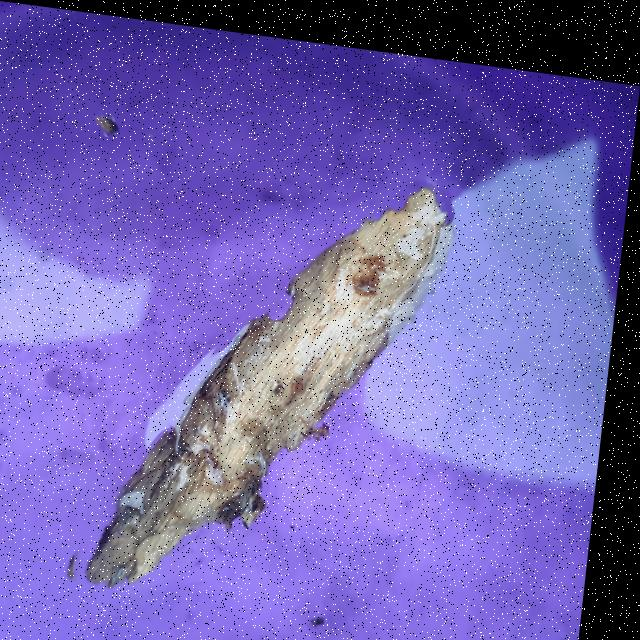wood: (64, 126, 460, 640)
